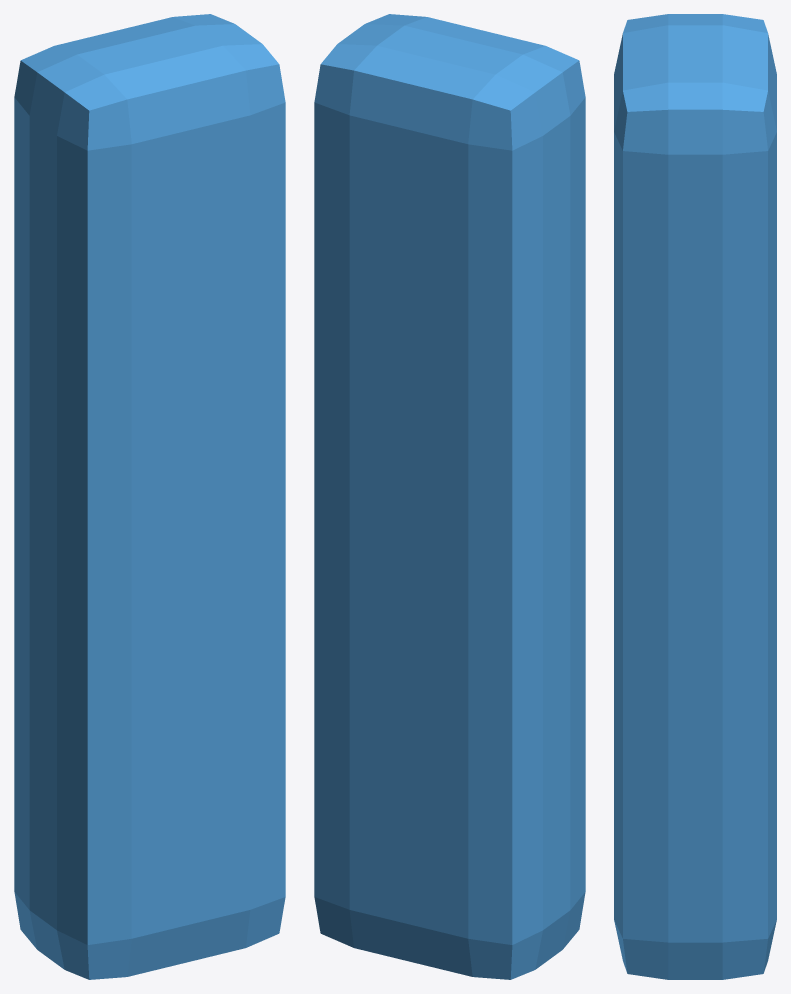
File: back__spine_ridge__compact_ridge.glb
3 views of the same model, side by side, from view 1: azimuth 30°, elevation 25°; view 2: azimuth 150°, elevation 25°; view 3: azimuth 270°, elevation 25° (orthographic).
Visible parts, largest first — view 1: armor_topping_back_spine_ridge_compact_ridge_v001_v001; view 2: armor_topping_back_spine_ridge_compact_ridge_v001_v001; view 3: armor_topping_back_spine_ridge_compact_ridge_v001_v001.
Boxes of the visible parts, x1,y1,x2,y2 form: armor_topping_back_spine_ridge_compact_ridge_v001_v001: (14,14,285,979); armor_topping_back_spine_ridge_compact_ridge_v001_v001: (314,14,585,979); armor_topping_back_spine_ridge_compact_ridge_v001_v001: (614,14,776,979).
Size of the model in its own units: 0.045 by 0.18 by 0.03.
